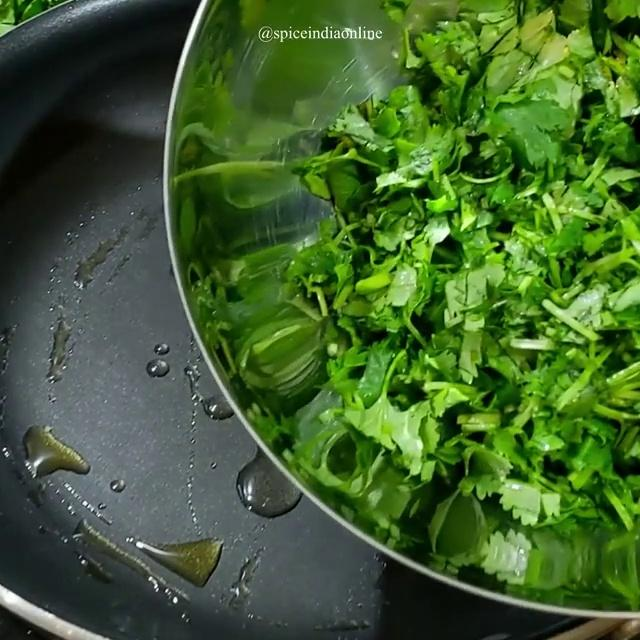cilantro: (411, 0, 640, 487)
